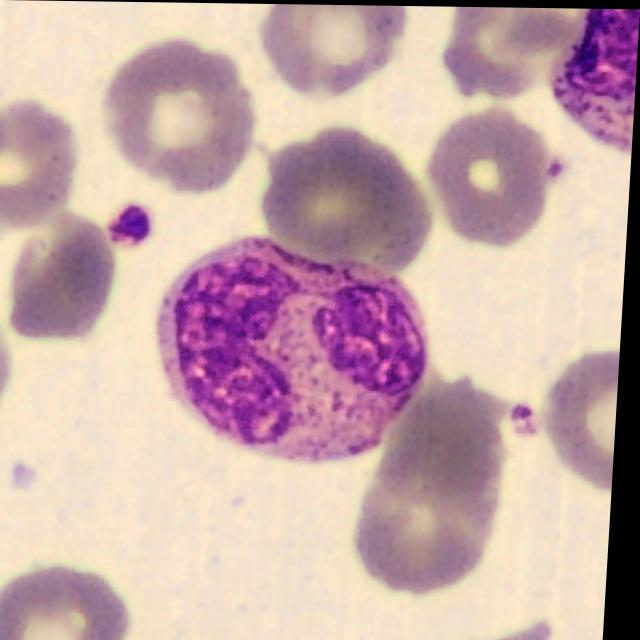Neutrofilo segmentado: (160, 236, 435, 465)
